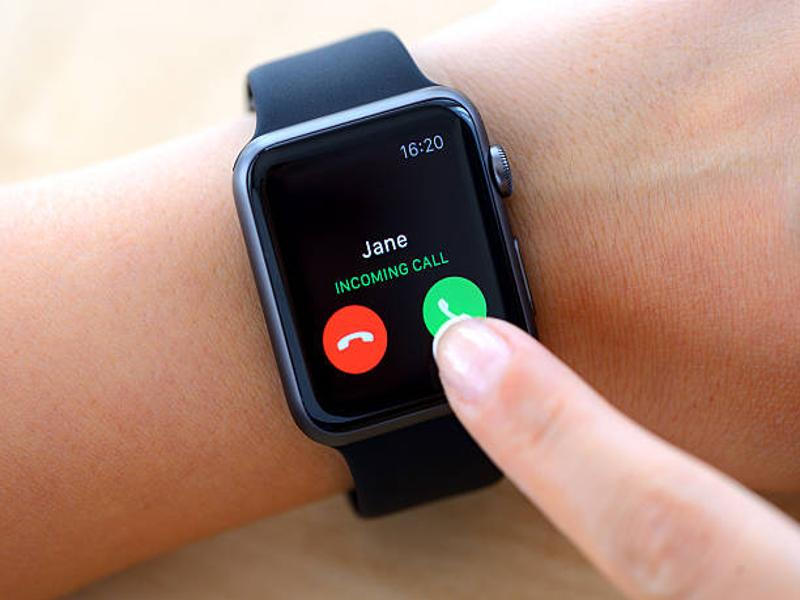watch: (231, 27, 542, 521)
